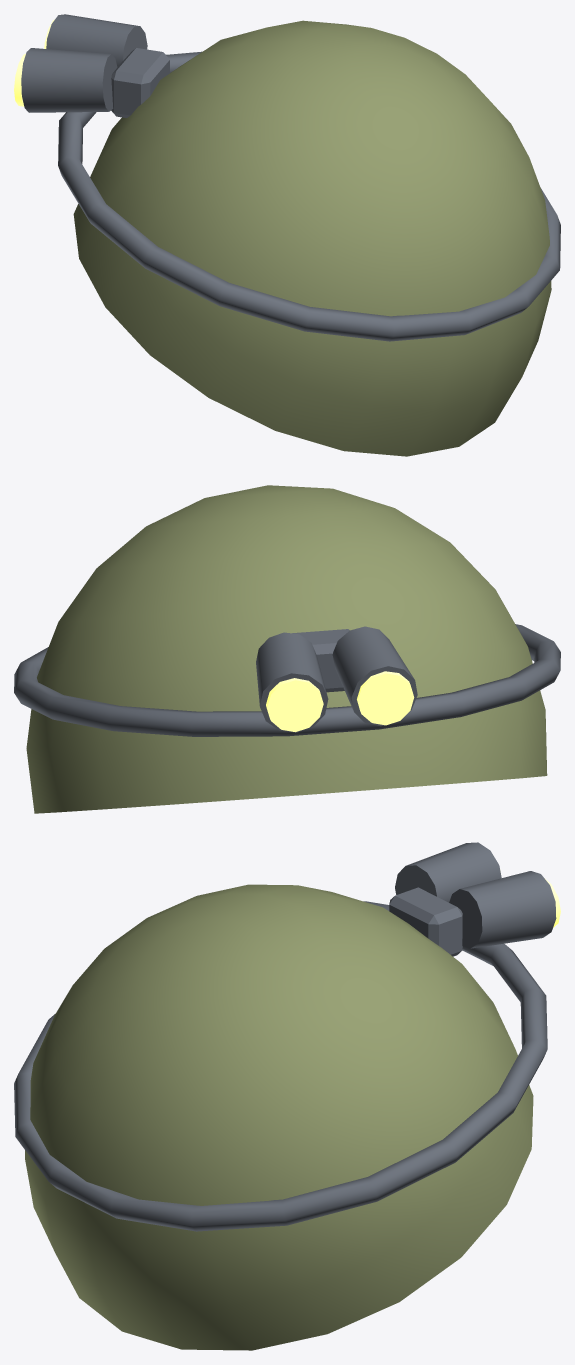
The model's file is specialforce_head.fbx.
The picture shows the model from 3 angles, top to bottom: view 1: azimuth 30°, elevation 25°; view 2: azimuth 150°, elevation 25°; view 3: azimuth 270°, elevation 25°; orthographic projection. The views are drawn at different scales.
Visible parts, largest first — view 1: specialforce_head; view 2: specialforce_head; view 3: specialforce_head.
Part boxes in pixels (bbox=[...]): specialforce_head: bbox=[14, 14, 560, 456]; specialforce_head: bbox=[14, 485, 560, 813]; specialforce_head: bbox=[14, 842, 560, 1350].
Size of the model in its own units: 1.43 by 1.07 by 1.44.
